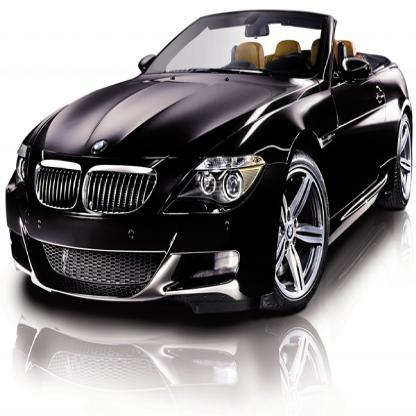Vehicle: (7, 8, 413, 320)
